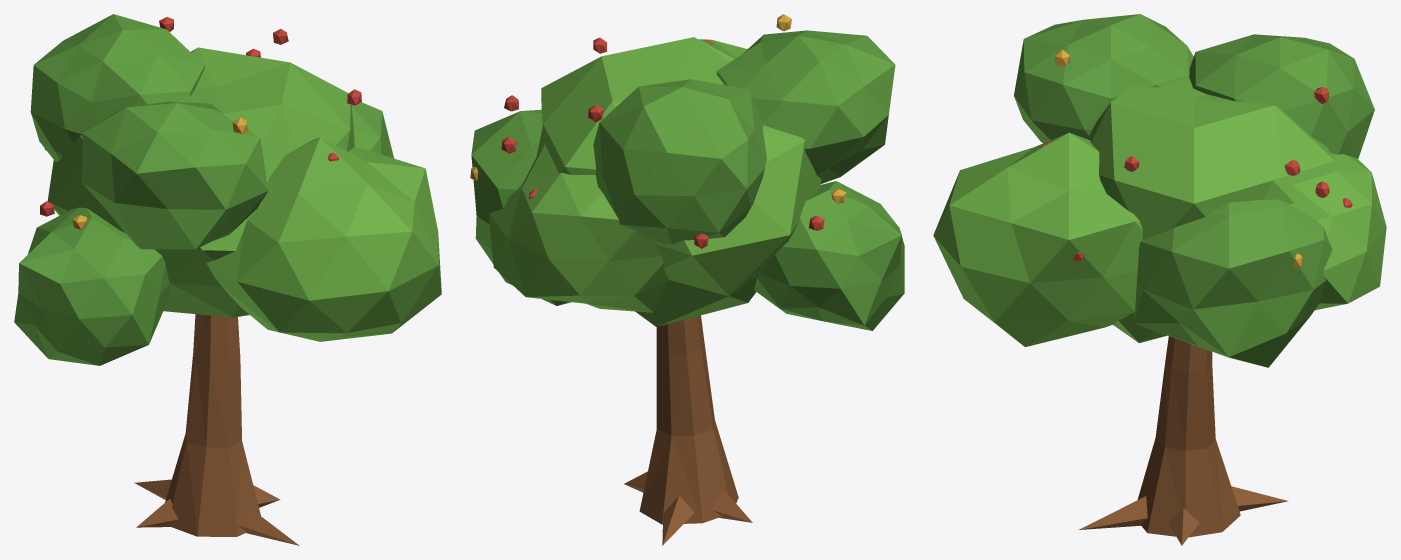
File: HS_LP_Tree_Apple_01.fbx
The picture shows the model from 3 angles, left to right: view 1: azimuth 30°, elevation 25°; view 2: azimuth 150°, elevation 25°; view 3: azimuth 270°, elevation 25°; orthographic projection.
Parts seen in each view (by area): view 1: HS_LP_Tree_Apple_01; view 2: HS_LP_Tree_Apple_01; view 3: HS_LP_Tree_Apple_01.
Boxes of the visible parts, bbox=[...] form: HS_LP_Tree_Apple_01: bbox=[14, 14, 441, 545]; HS_LP_Tree_Apple_01: bbox=[470, 14, 904, 545]; HS_LP_Tree_Apple_01: bbox=[933, 14, 1386, 545].
Size of the model in its own units: 334 by 376 by 334.
